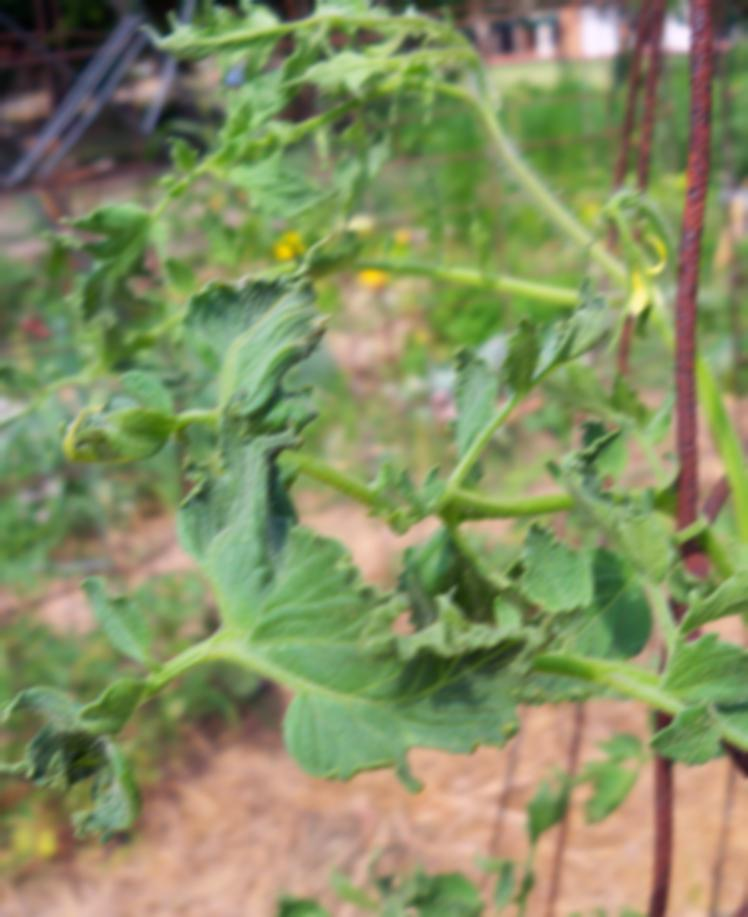Tomato leaf mosaic virus: (213, 525, 520, 777), (174, 234, 334, 647), (0, 652, 153, 863), (653, 630, 748, 778), (514, 519, 600, 614), (446, 332, 498, 465)
